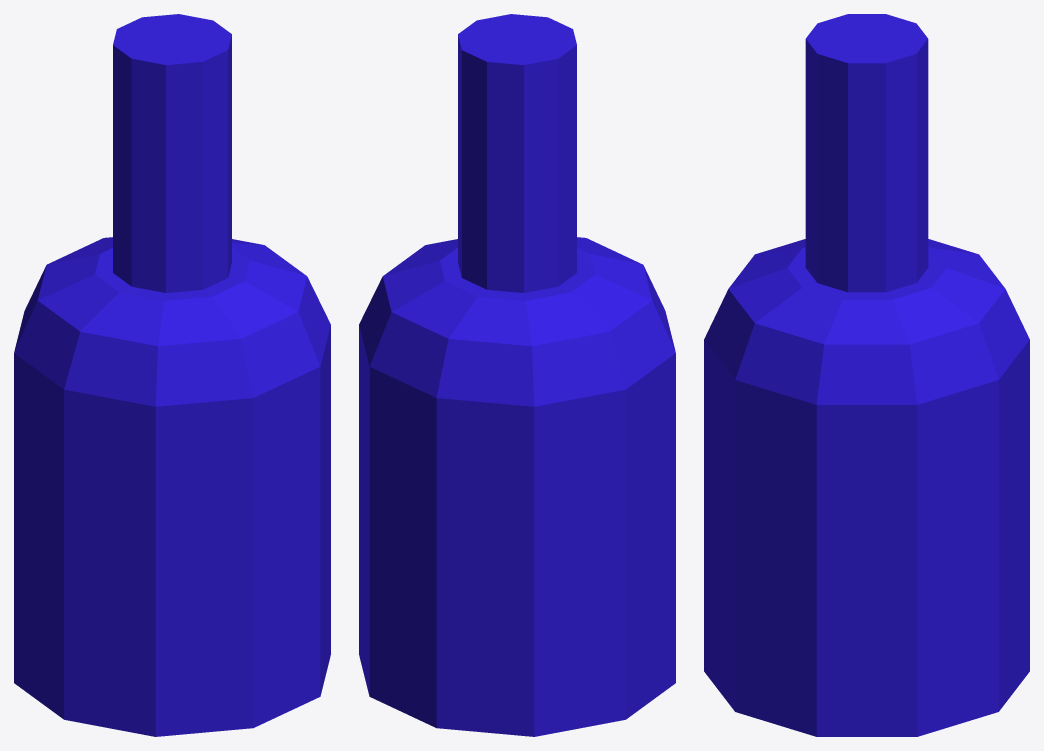
The model's file is Blue_bottle.glb.
3 views of the same model, side by side, from view 1: azimuth 30°, elevation 25°; view 2: azimuth 150°, elevation 25°; view 3: azimuth 270°, elevation 25° (orthographic).
Parts seen in each view (by area): view 1: Cylinder; view 2: Cylinder; view 3: Cylinder.
Part boxes in pixels (x1=…): Cylinder: x1=14, y1=14, x2=330, y2=736; Cylinder: x1=359, y1=14, x2=675, y2=736; Cylinder: x1=704, y1=14, x2=1029, y2=736.
Size of the model in its own units: 1.9 by 4.29 by 2.
